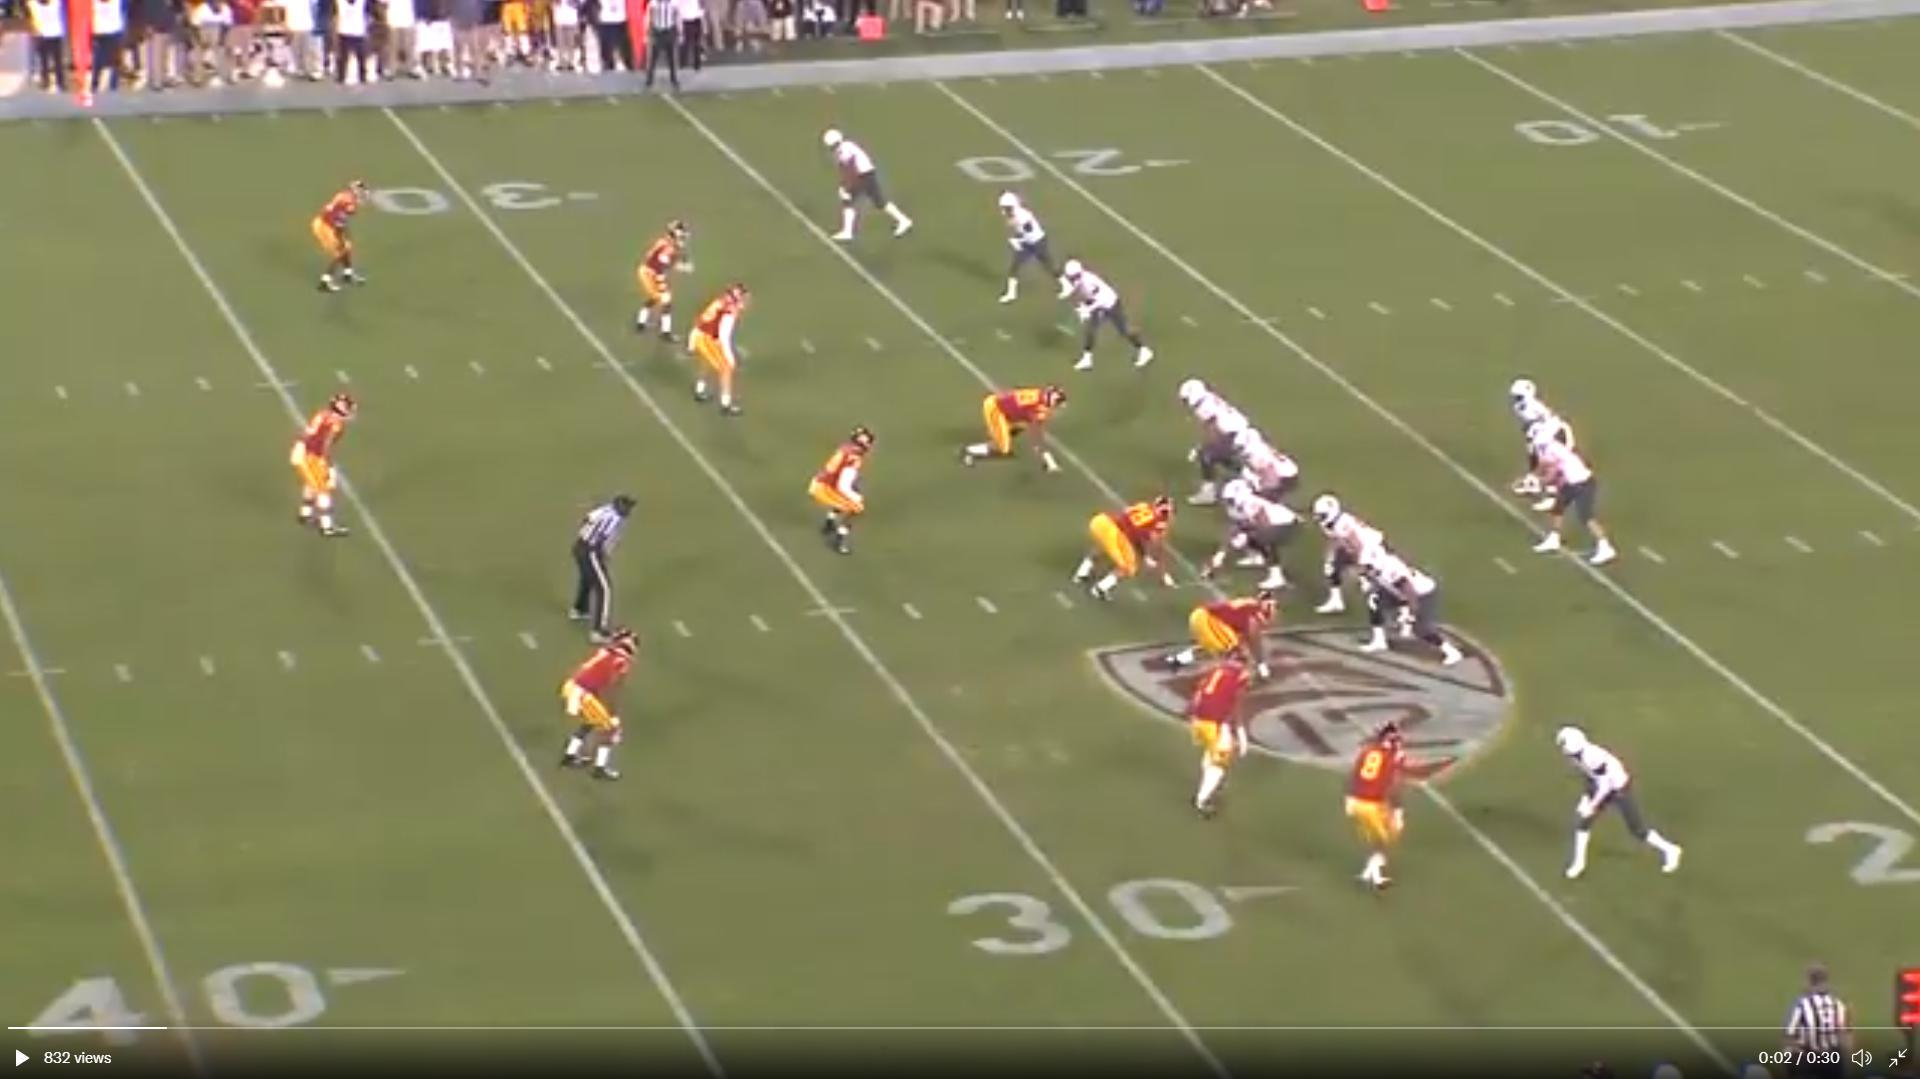player: (1553, 720, 1692, 886), (1191, 635, 1266, 830), (1363, 538, 1472, 667), (565, 630, 648, 791), (1535, 422, 1626, 565), (1339, 715, 1408, 902), (1060, 254, 1159, 379), (821, 125, 916, 249), (1069, 494, 1176, 603), (283, 391, 353, 543), (1206, 480, 1300, 593), (961, 382, 1073, 476), (1167, 591, 1286, 677), (994, 186, 1076, 310), (1314, 491, 1392, 621), (1179, 371, 1261, 494), (809, 429, 880, 566), (629, 217, 695, 353), (684, 285, 748, 421), (310, 179, 374, 303), (1511, 375, 1571, 507), (1226, 425, 1303, 506)
ref: (569, 488, 644, 644), (1783, 961, 1858, 1076), (639, 0, 696, 105)
